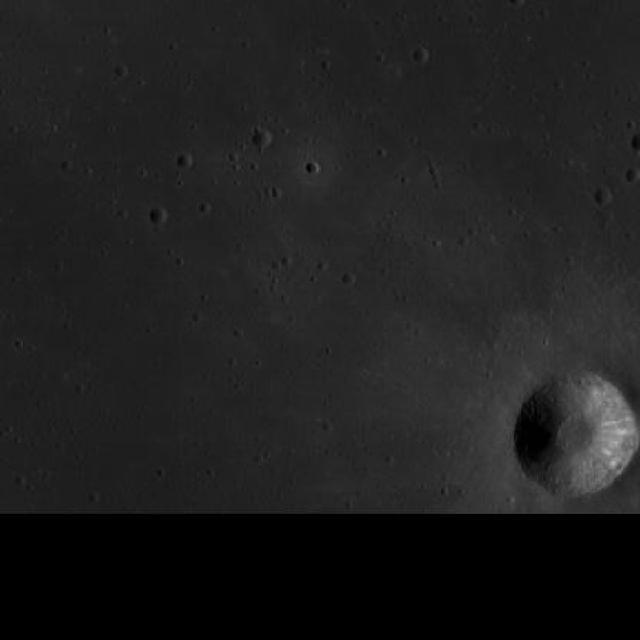crater: (512, 372, 637, 496), (595, 188, 614, 206), (414, 47, 431, 64), (254, 130, 271, 147), (153, 207, 170, 224), (180, 153, 194, 169), (627, 166, 640, 182)
